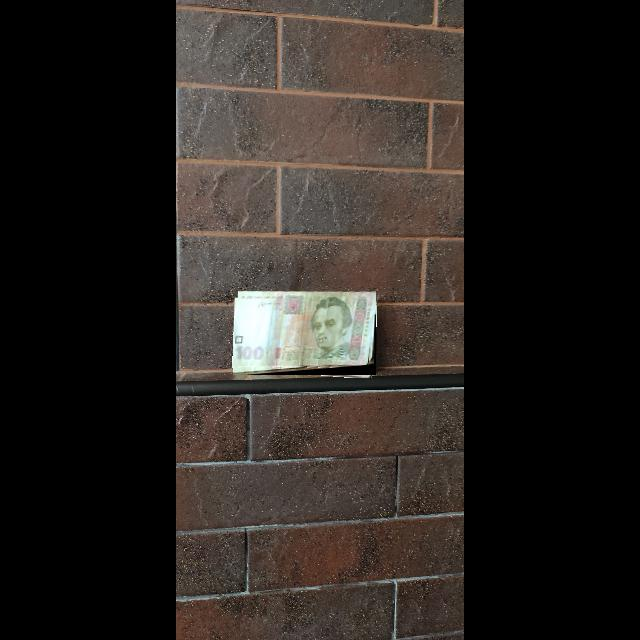100uah: (233, 291, 377, 368)
